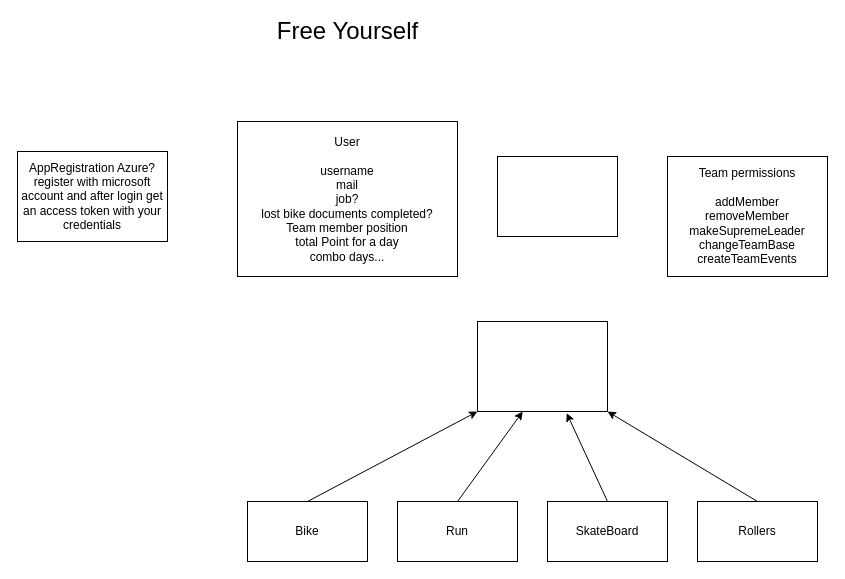
This 845x579 diagram has some shape labels left out. Each missing label, with the centre of its shape:
"Team class owner list of members teamName base" belongs at (x=557, y=196).
"Vehicle/Options Interface currentDailyKM totalKM difficultyCoefficient" belongs at (x=542, y=366).
